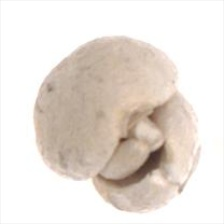L3: (97, 105, 172, 189)
L4: (32, 34, 202, 212)
